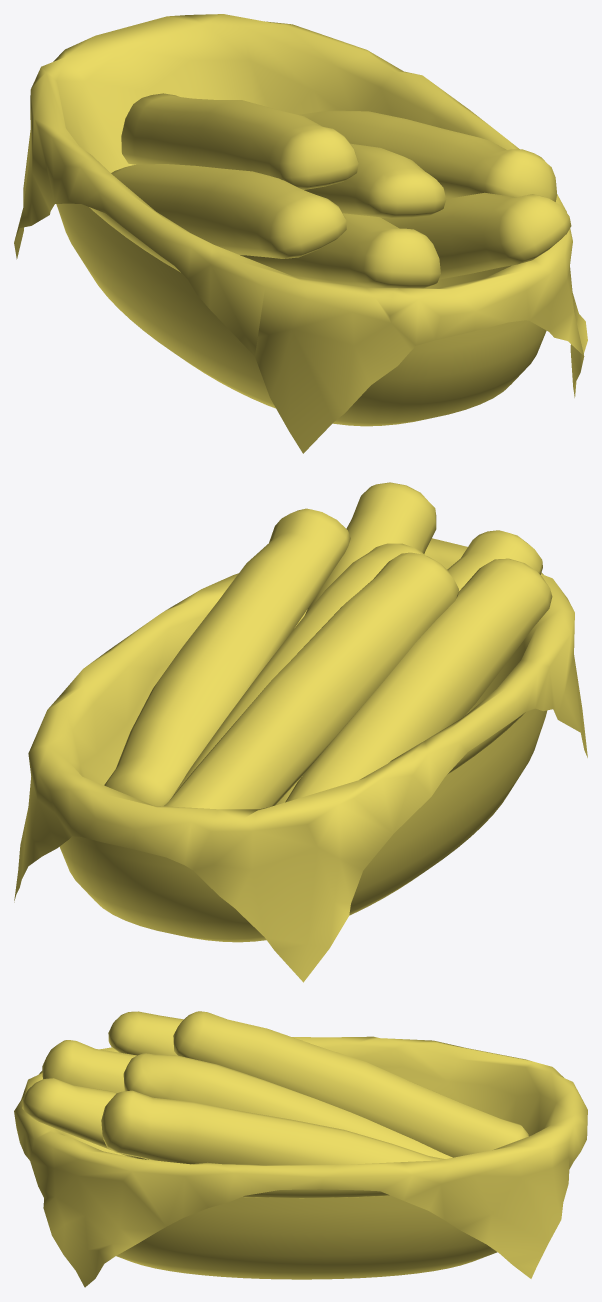
Rendered from sfw4_food.fbx.
The picture shows the model from 3 angles, top to bottom: view 1: azimuth 30°, elevation 25°; view 2: azimuth 150°, elevation 25°; view 3: azimuth 270°, elevation 25°; orthographic projection. The views are drawn at different scales.
Visible parts, largest first — view 1: paper, basket, breadstick6, breadstick1, breadstick5, breadstick3, breadstick2, breadstick4, basket_ring; view 2: paper, breadstick6, breadstick5, basket, breadstick1, breadstick3, breadstick4, breadstick2; view 3: paper, basket, breadstick6, breadstick5, breadstick4, breadstick3, breadstick2, breadstick1, basket_ring.
Part boxes in pixels (x1,y1,x2,y2): paper: [14, 14, 587, 453]; basket: [56, 203, 546, 426]; breadstick6: [121, 93, 358, 189]; breadstick1: [111, 164, 346, 258]; breadstick5: [298, 110, 557, 201]; breadstick3: [382, 192, 571, 279]; breadstick2: [240, 213, 440, 288]; breadstick4: [304, 143, 446, 218]; basket_ring: [89, 207, 180, 272]; paper: [14, 538, 587, 982]; breadstick6: [164, 552, 458, 809]; breadstick5: [104, 508, 350, 806]; basket: [59, 708, 547, 942]; breadstick1: [285, 558, 552, 802]; breadstick3: [305, 482, 436, 614]; breadstick4: [172, 543, 424, 796]; breadstick2: [276, 530, 542, 804]; paper: [14, 1036, 587, 1287]; basket: [116, 1195, 497, 1279]; breadstick6: [173, 1011, 528, 1157]; breadstick5: [101, 1090, 444, 1164]; breadstick4: [123, 1053, 452, 1158]; breadstick3: [22, 1078, 148, 1159]; breadstick2: [42, 1040, 136, 1092]; breadstick1: [108, 1011, 183, 1055]; basket_ring: [242, 1189, 389, 1198].
Size of the model in its own units: 18.36 by 12.84 by 32.07.
